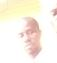without_facemask: (19, 38, 38, 54)
